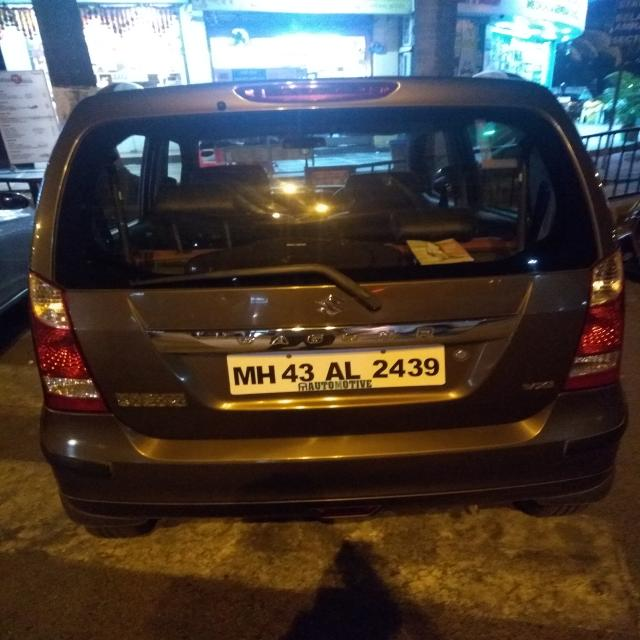Number-Plate: (230, 350, 450, 390)
